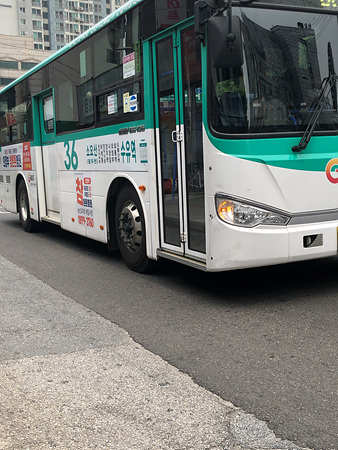entrance: (148, 20, 215, 259)
